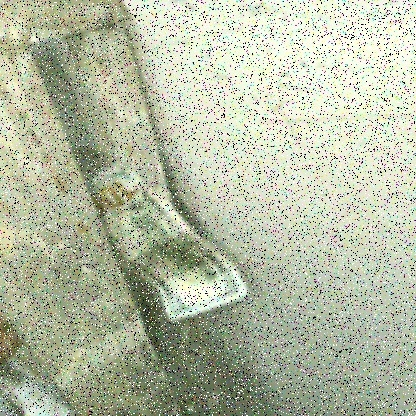one_hundred-back: (69, 159, 248, 322)
